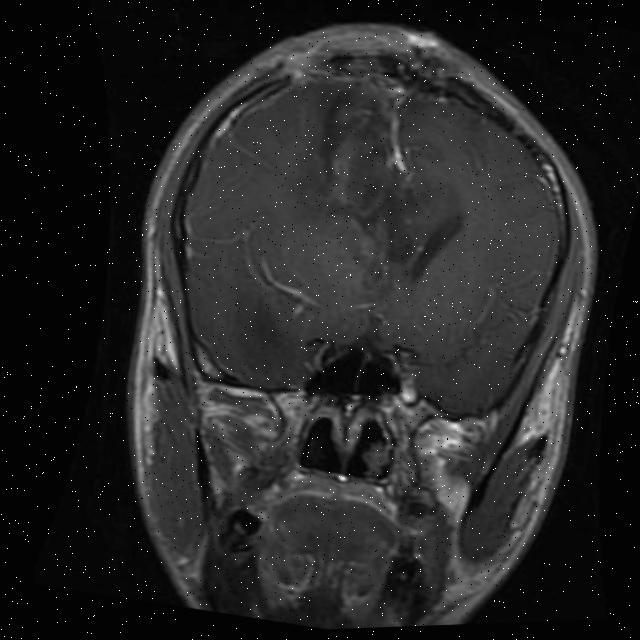Glioma: (305, 82, 411, 218)
